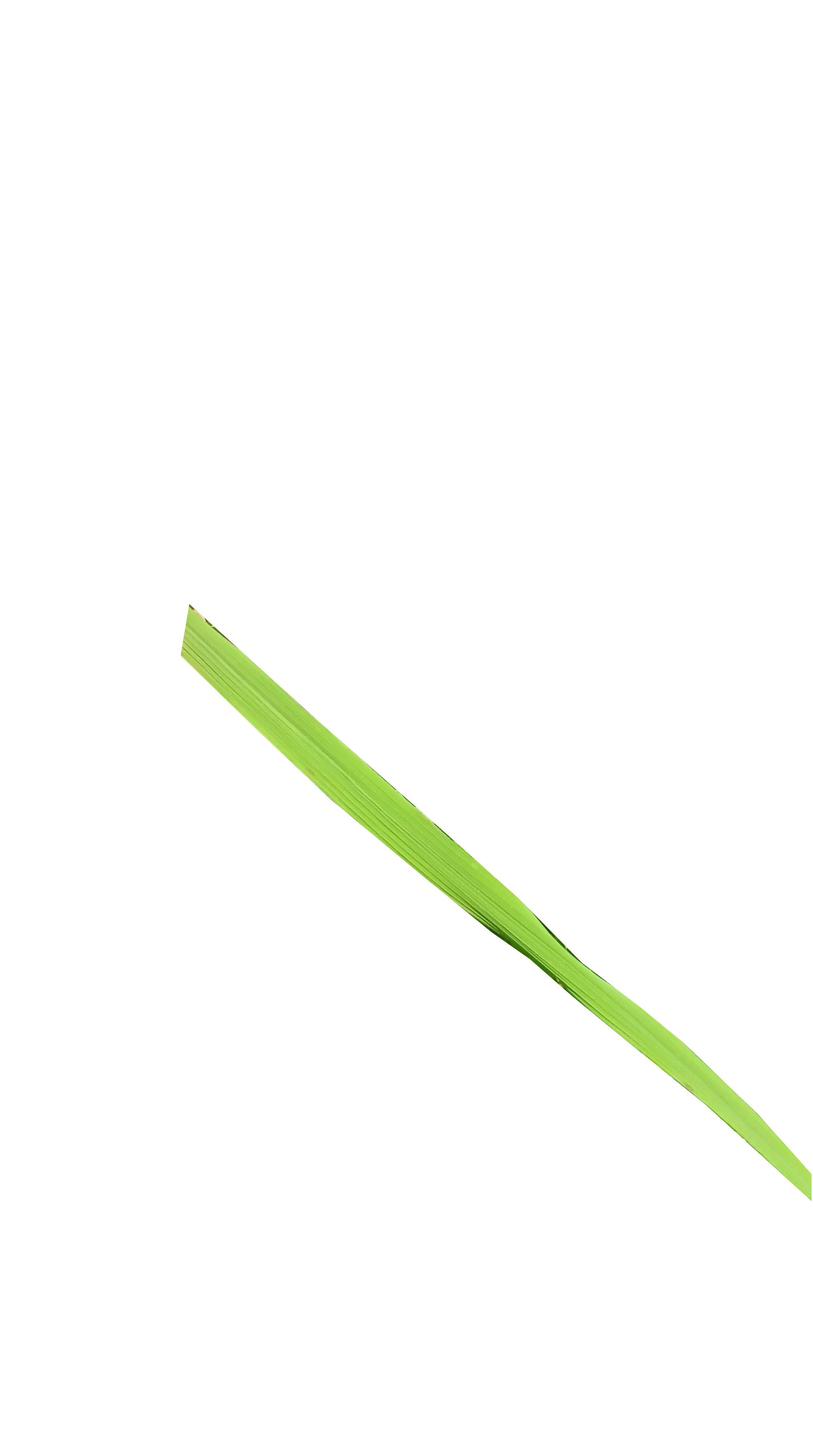Tungro: (178, 608, 813, 1209)
